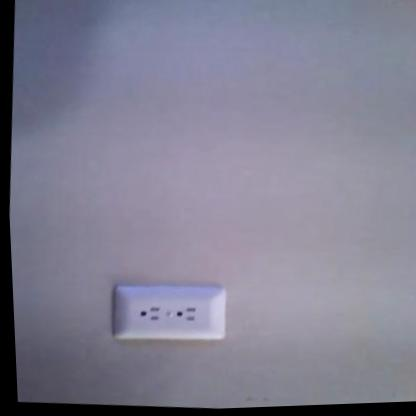OUTLET: (112, 281, 228, 346)
